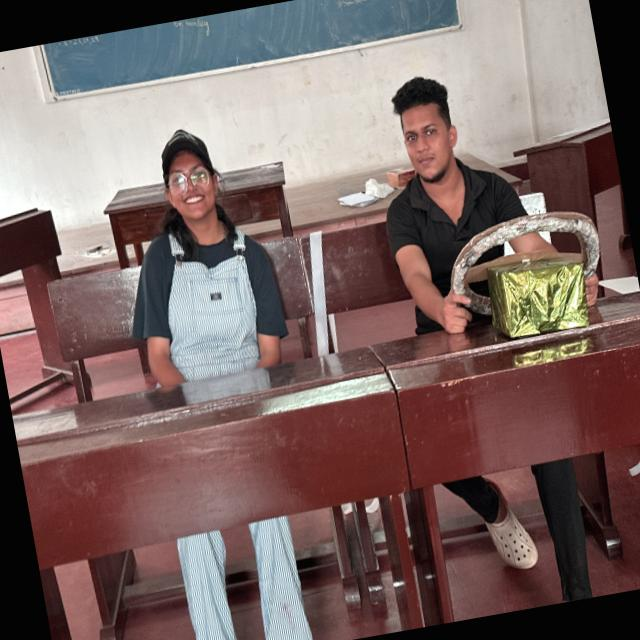Helmet: (118, 212, 309, 394), (384, 152, 554, 345)
